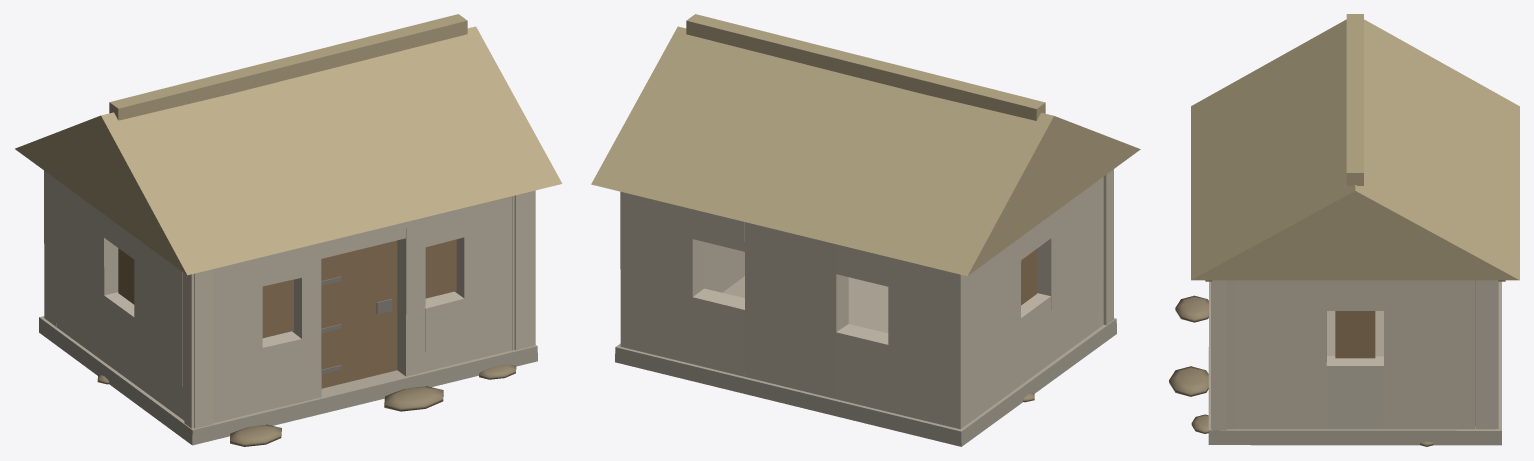
File: road_house_shell.glb
3 renders of one model, left to right at view 1: azimuth 30°, elevation 25°; view 2: azimuth 150°, elevation 25°; view 3: azimuth 270°, elevation 25°, orthographic. The views are drawn at different scales.
Parts seen in each view (by area): view 1: House_Roof, House_Walls, House_Wood, House_Mud; view 2: House_Walls, House_Roof, House_Wood; view 3: House_Roof, House_Walls, House_Mud, House_Wood.
Boxes of the visible parts, x1,y1,x2,y2 form: House_Roof: [15, 14, 562, 275]; House_Walls: [39, 170, 537, 445]; House_Wood: [118, 239, 456, 388]; House_Mud: [97, 364, 516, 446]; House_Walls: [615, 169, 1116, 446]; House_Roof: [591, 14, 1140, 276]; House_Wood: [1021, 249, 1036, 305]; House_Roof: [1191, 14, 1519, 281]; House_Walls: [1208, 280, 1501, 445]; House_Mud: [1169, 295, 1433, 446]; House_Wood: [1335, 311, 1375, 358].
Size of the model in its own units: 5.76 by 4.21 by 4.9.
